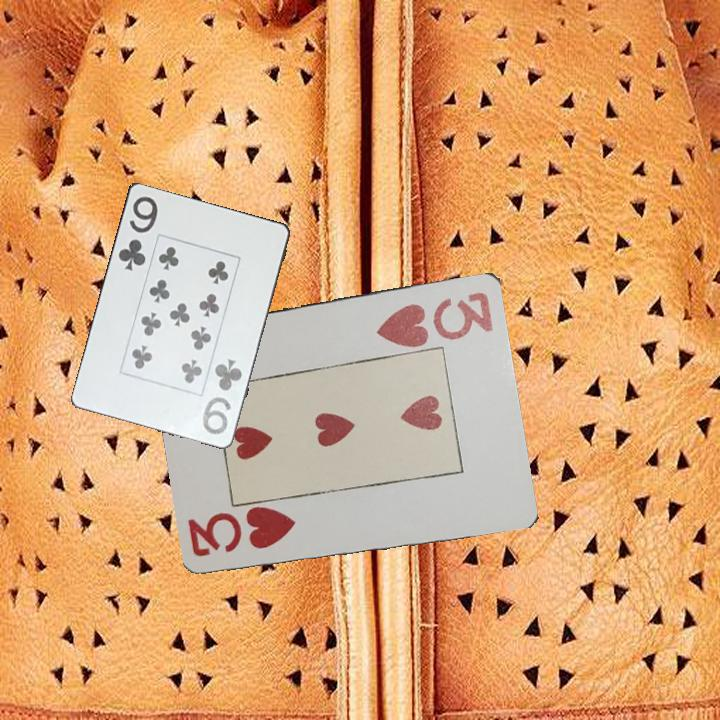3h: (373, 288, 497, 349), (185, 505, 299, 559)
9c: (198, 354, 245, 437), (114, 192, 161, 274)
